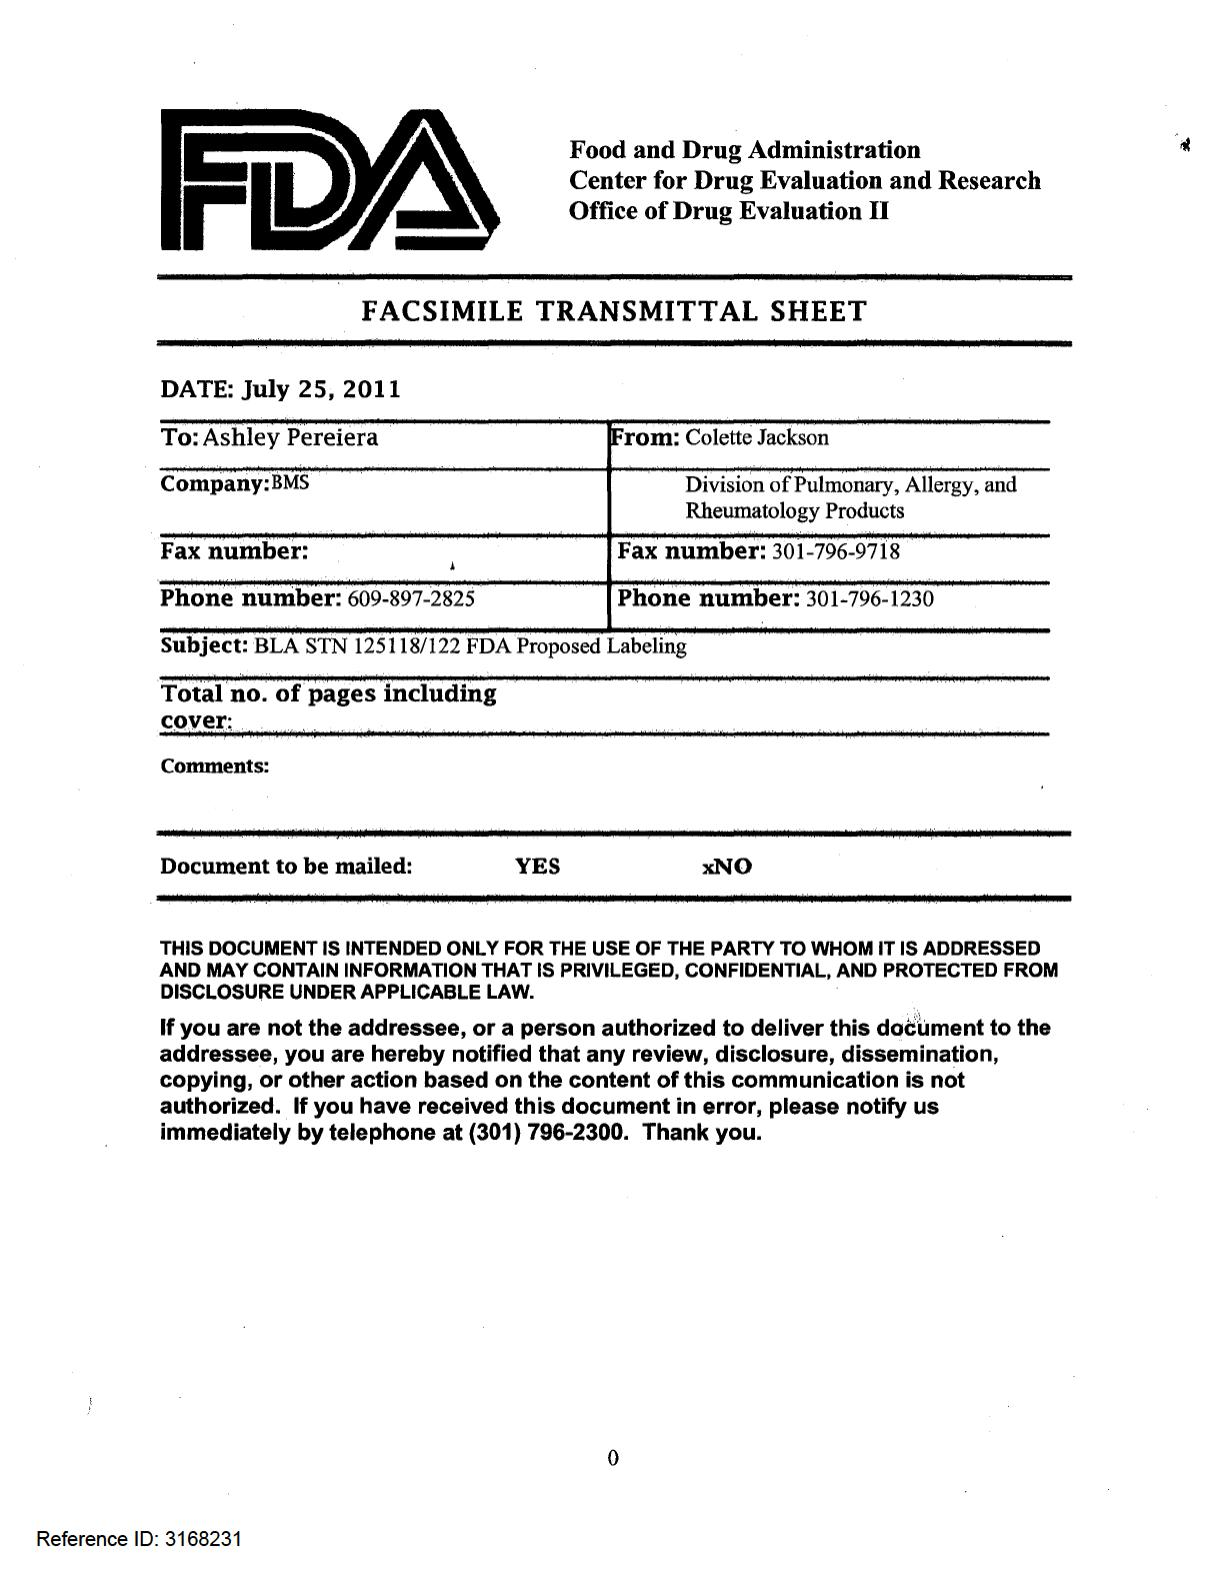partial_lined_merged_cells: (155, 340, 1074, 901)
